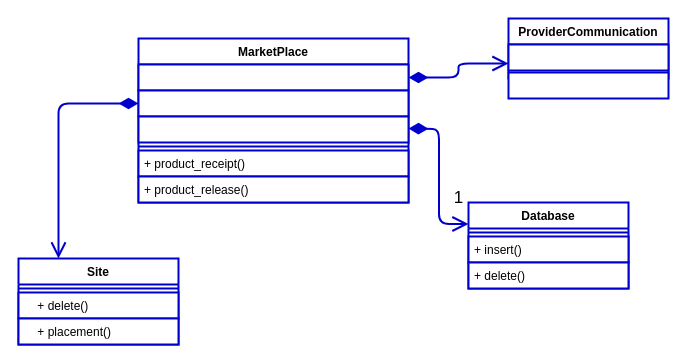
Image size: 686x364. Some labels were removed from this diagram. The centre of each missing label's shape, as x and y in pixels:
+ payment(): (x=588, y=85)
+ receive(): (x=588, y=57)
- _database: Database: (x=273, y=129)
- _provider_communication: ProviderCommunication: (x=273, y=77)
- _site: Site: (x=273, y=103)
